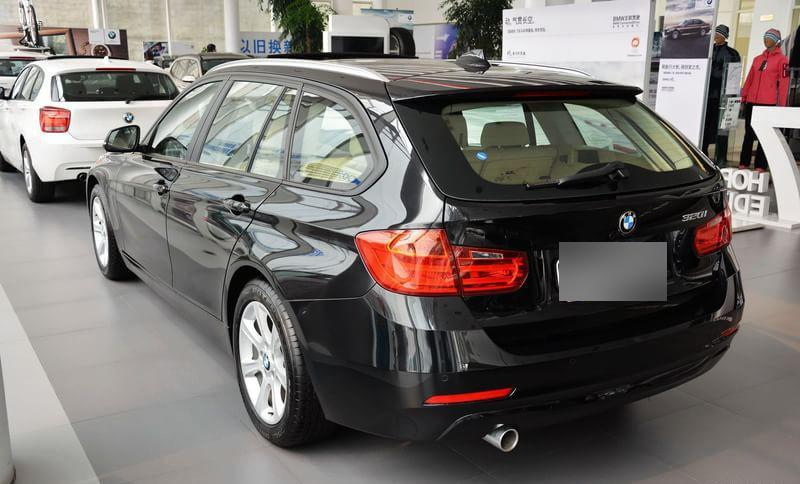Wagon: (85, 52, 747, 455)
